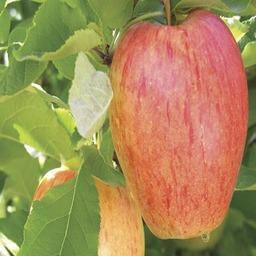apple: (106, 6, 249, 240)
